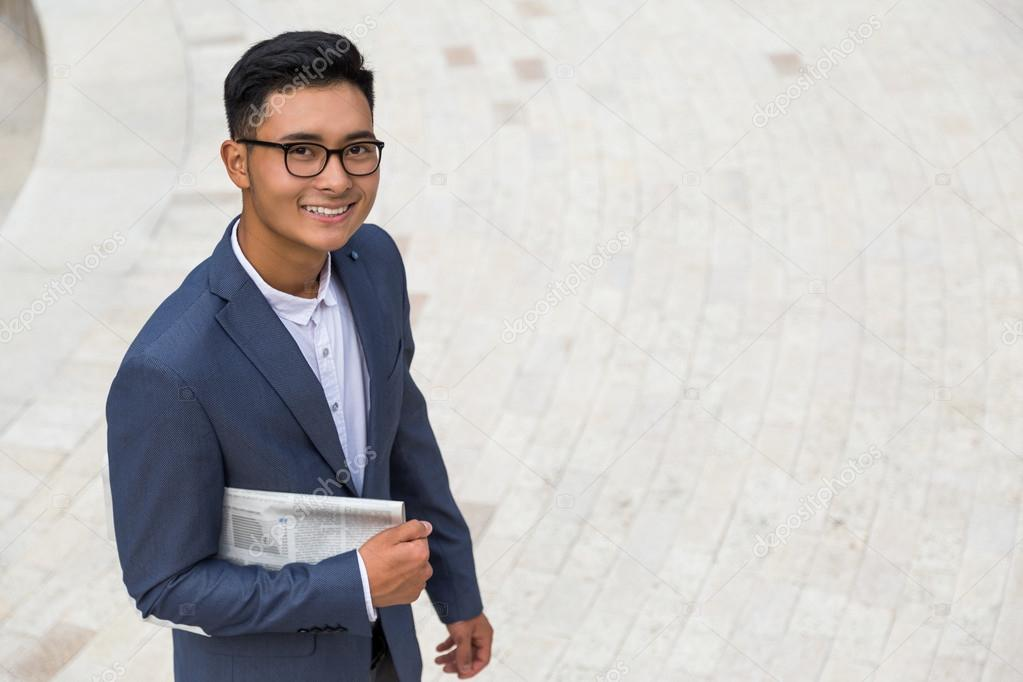bare: (247, 168, 396, 250)
